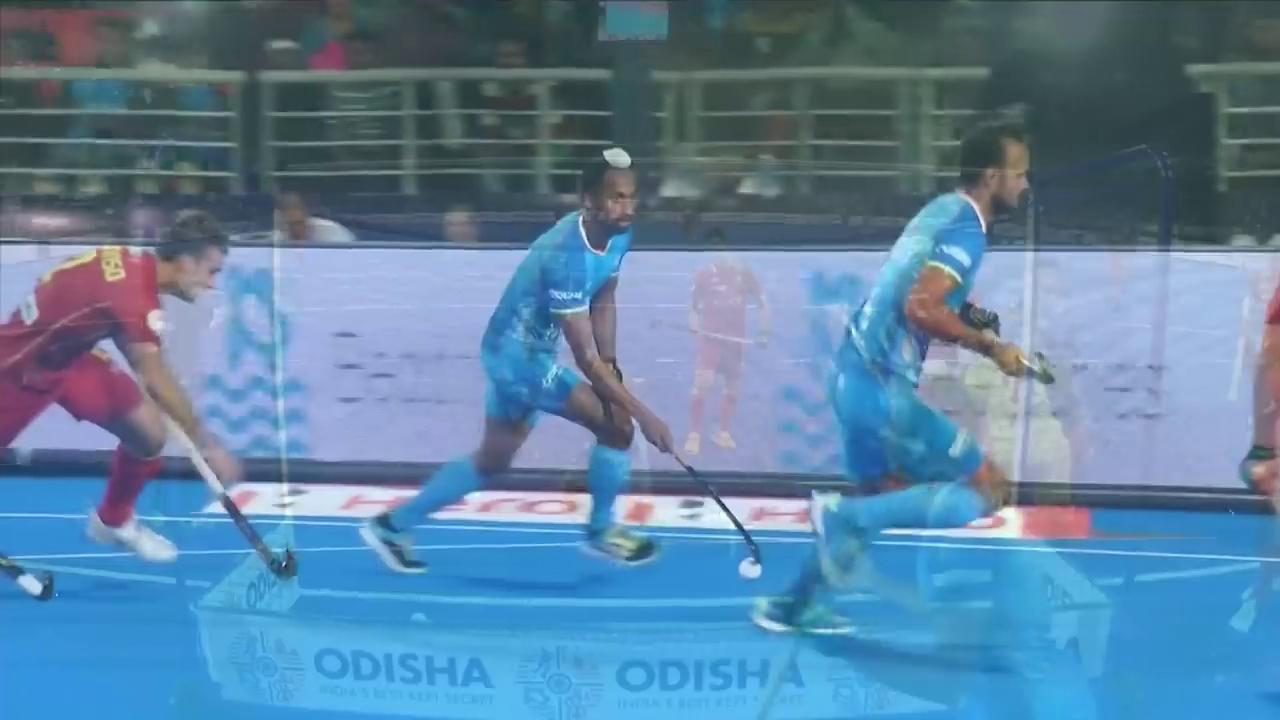ball: (735, 548, 778, 586)
